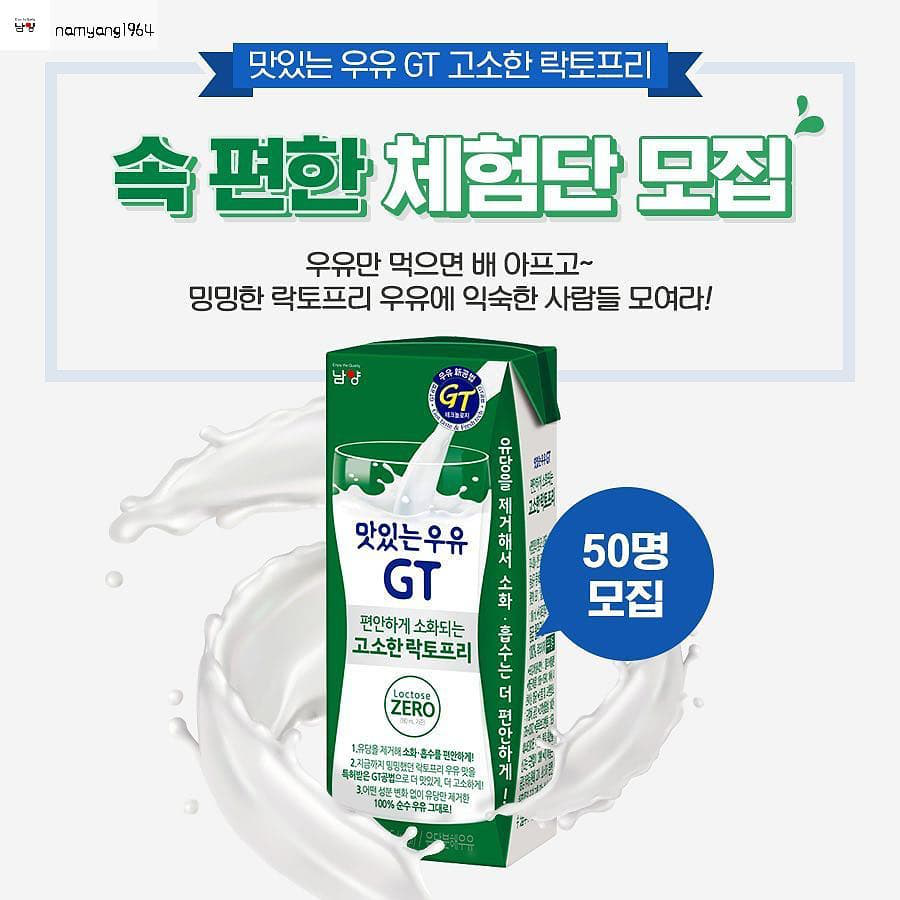milk: (325, 336, 559, 868)
